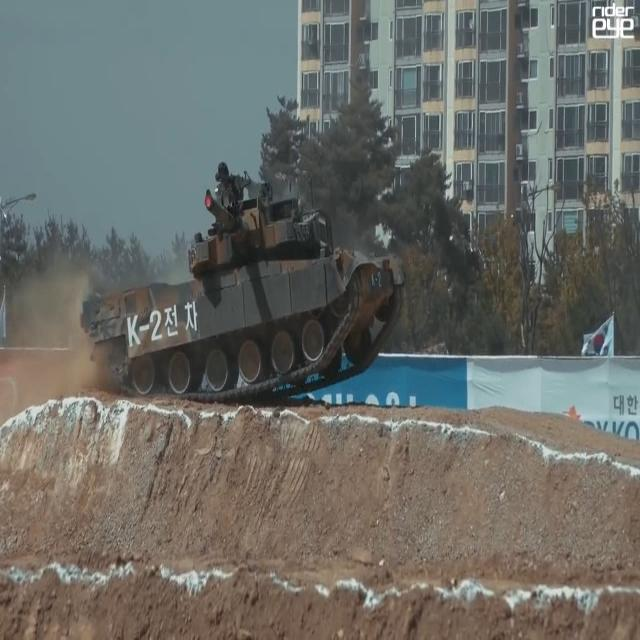korea tank: (79, 160, 407, 413)
